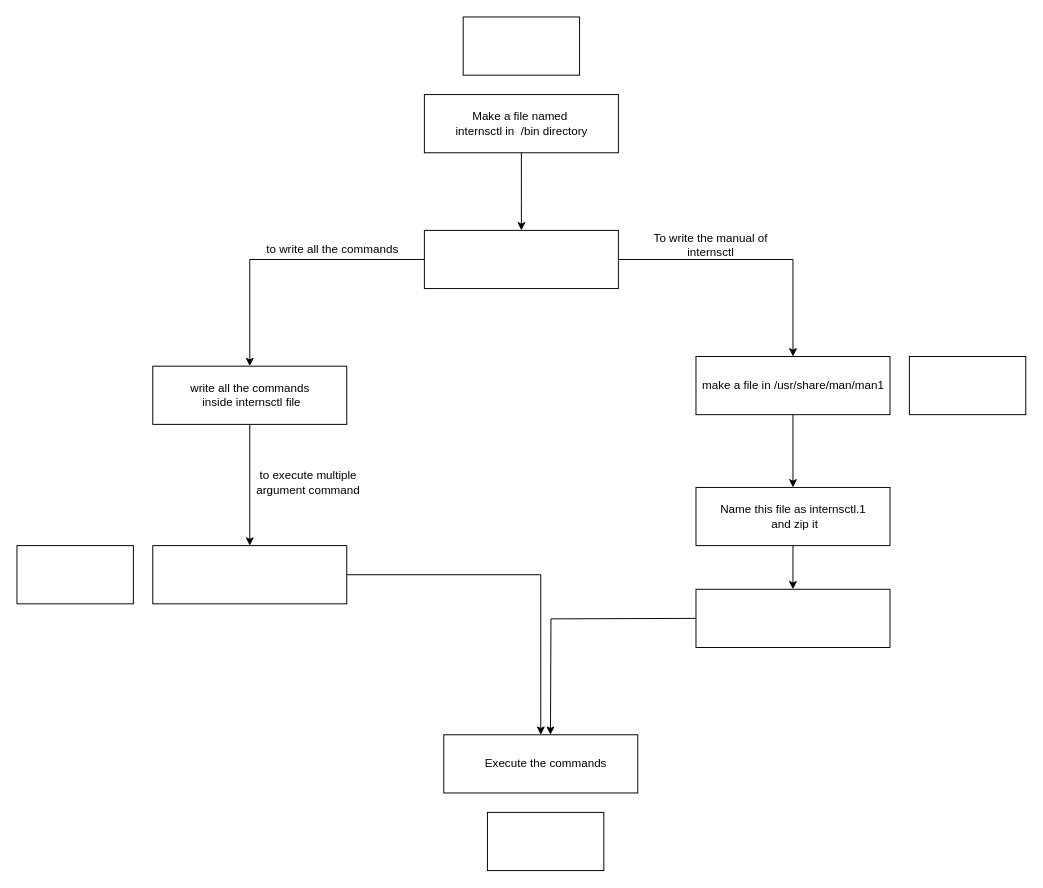
This 1043x888 diagram has some shape labels left out. Each missing label, with the box of its shape:
Make it executable by chmod command: (423, 229, 618, 289)
use the concept of positional parameter and use the if condition accordingly: (152, 545, 347, 604)
write the manual of your commands and save it: (695, 588, 890, 647)
